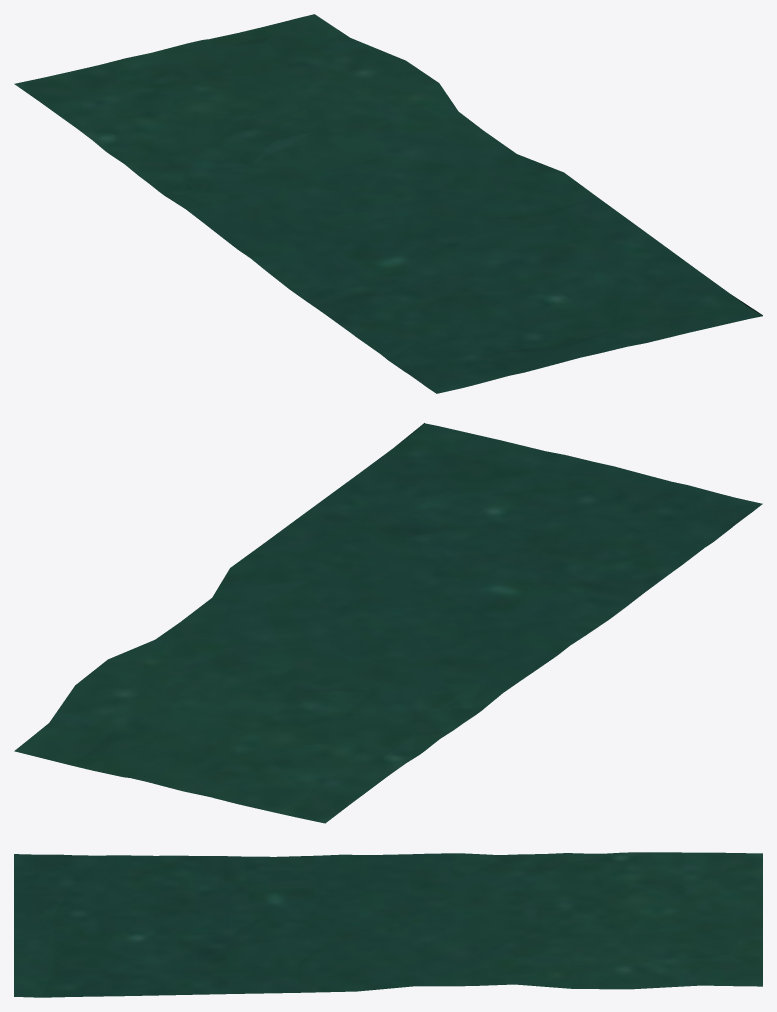
3 views of the same model, one above another, from view 1: azimuth 30°, elevation 25°; view 2: azimuth 150°, elevation 25°; view 3: azimuth 270°, elevation 25° (orthographic). The views are drawn at different scales.
Size of the model in its own units: 23.28 by 0.4508 by 52.22.
1 material, 1 textured.
